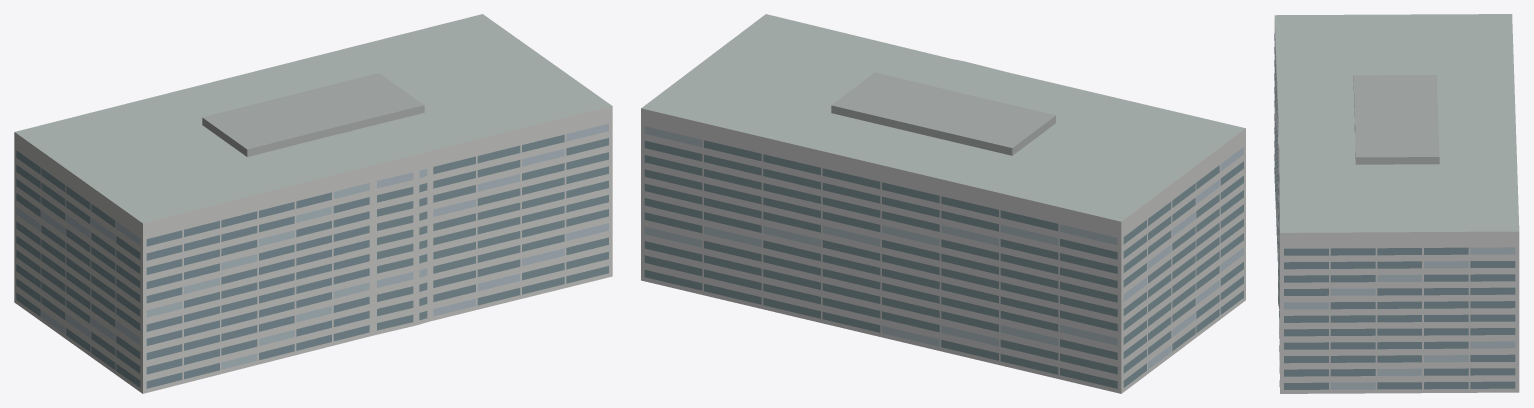
The model's file is landmark-c1e08f26-ebe0-4a95-827d-c617ca8b3d5f.glb.
3 renders of one model, left to right at view 1: azimuth 30°, elevation 25°; view 2: azimuth 150°, elevation 25°; view 3: azimuth 270°, elevation 25°, orthographic. The views are drawn at different scales.
Visible parts, largest first — view 1: landmark-c1e08f26-ebe0-4a95-827d-c617ca8b3d5f; view 2: landmark-c1e08f26-ebe0-4a95-827d-c617ca8b3d5f; view 3: landmark-c1e08f26-ebe0-4a95-827d-c617ca8b3d5f.
Boxes of the visible parts, bbox=[...] form: landmark-c1e08f26-ebe0-4a95-827d-c617ca8b3d5f: bbox=[14, 14, 612, 393]; landmark-c1e08f26-ebe0-4a95-827d-c617ca8b3d5f: bbox=[641, 14, 1245, 393]; landmark-c1e08f26-ebe0-4a95-827d-c617ca8b3d5f: bbox=[1274, 14, 1519, 393].
Bounding box in the file's own units: 107 × 38.25 × 50.47.
